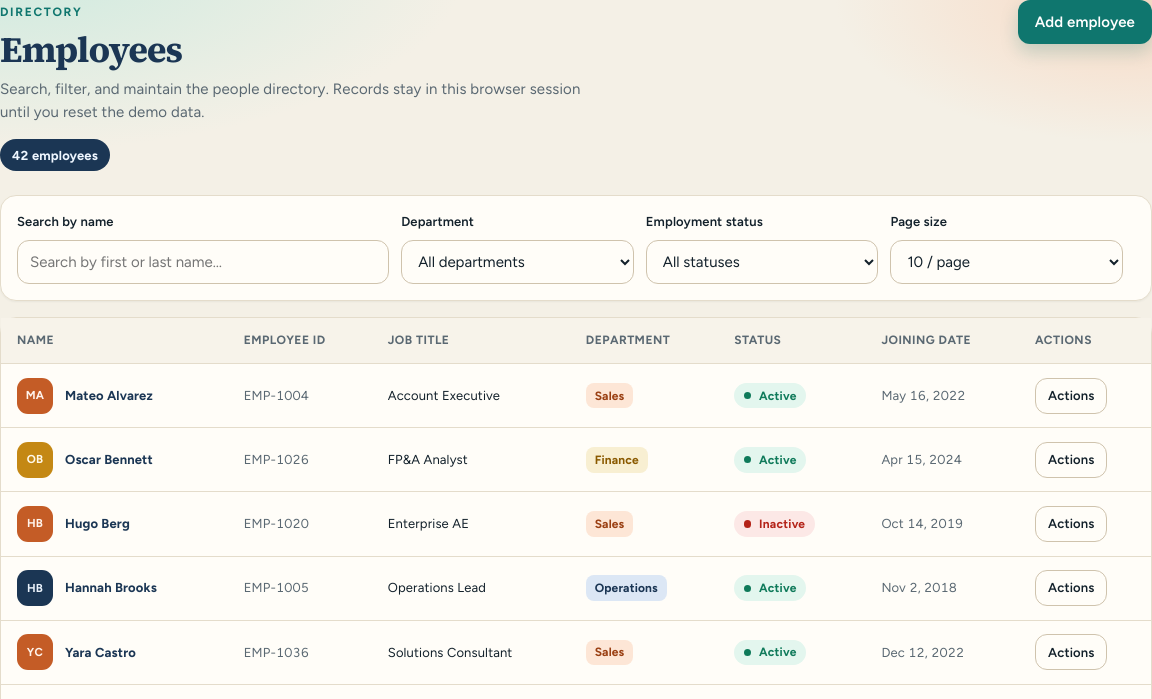
Test: Employee list › filters by employee name from the search field
The width and height of the screenshot is (1152, 699).
In the search field labelled "Search by name": (203, 262) [17,240,389,284], type "amina"
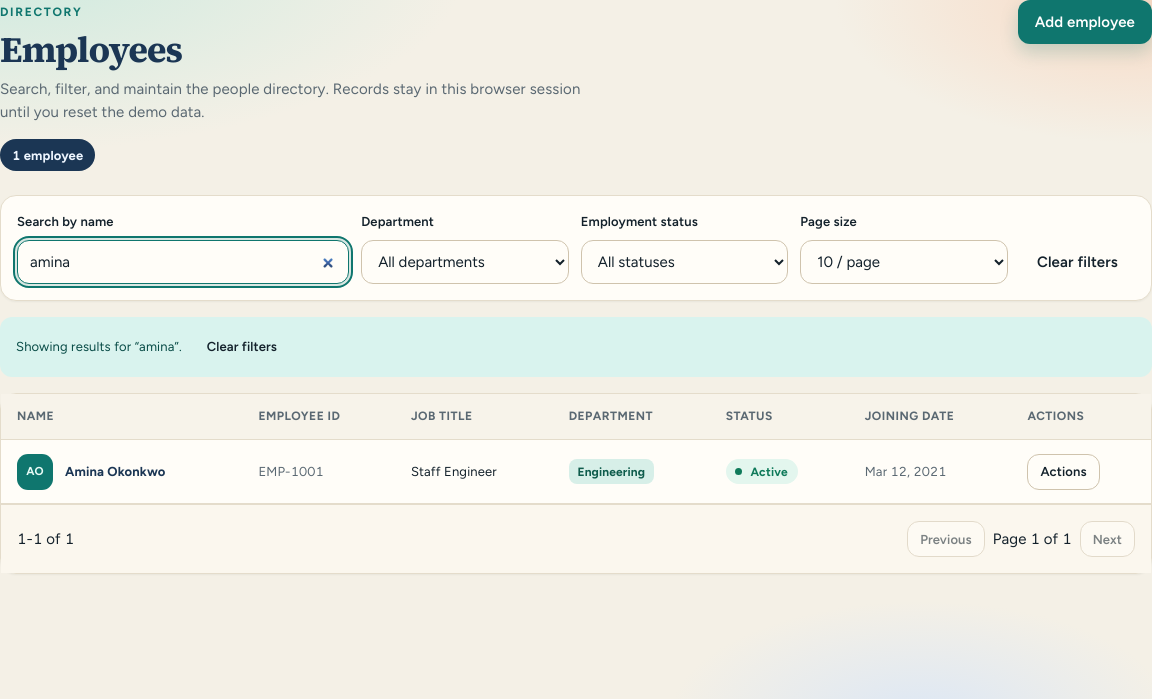
Expected: the text "James Chen" is not shown
